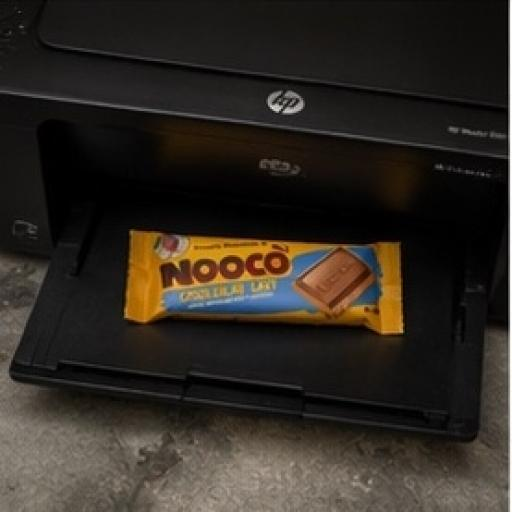nooco: (66, 140, 453, 364)
